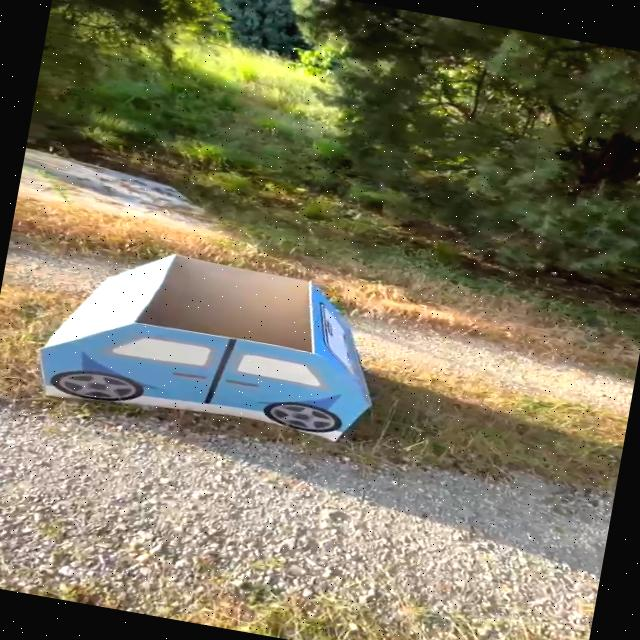blue_car: (0, 208, 413, 483)
